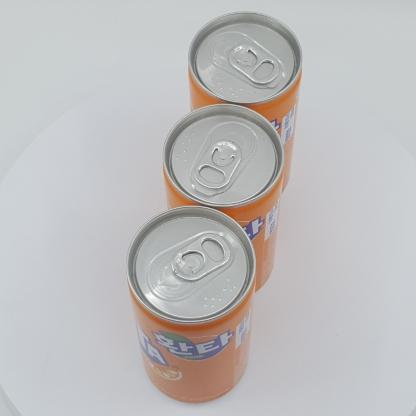-------185ML: (126, 205, 256, 403)
